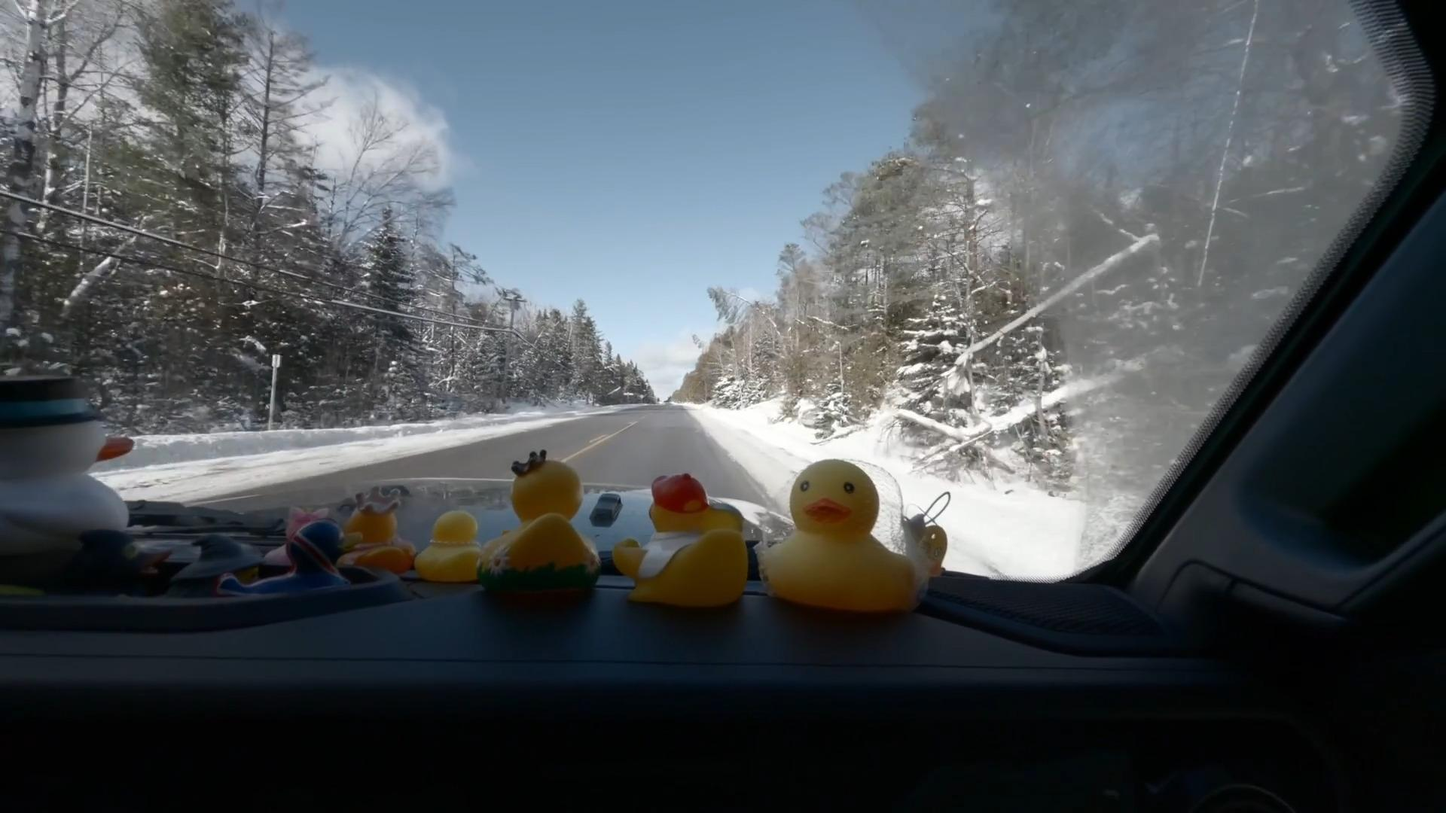Snow: (689, 403, 1100, 579), (110, 405, 642, 501)
dry: (139, 404, 774, 511)
